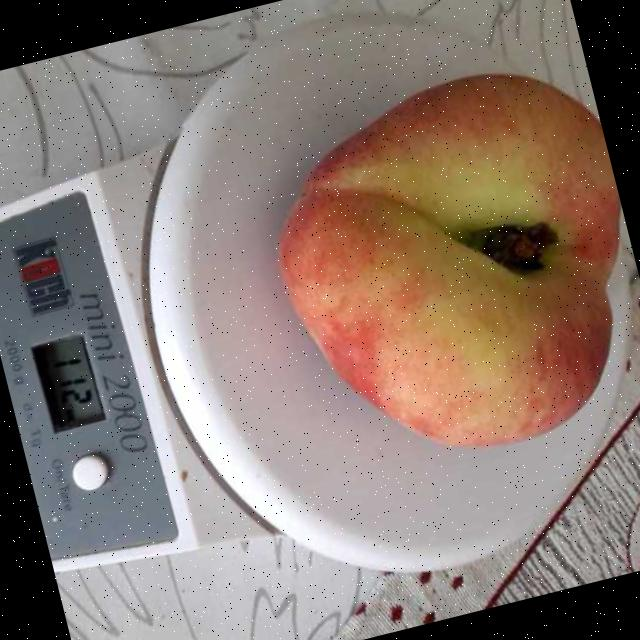peach: (287, 77, 615, 446)
